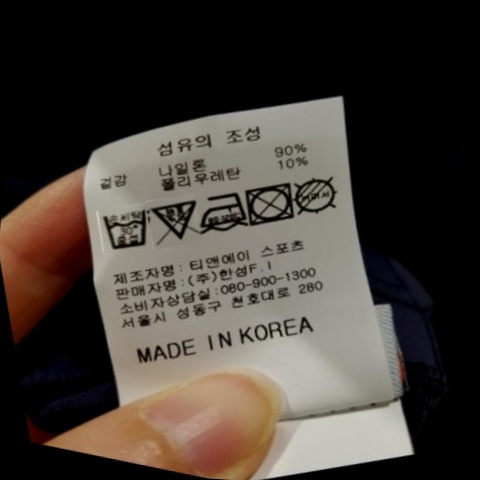DN_tumble_dry: (242, 174, 300, 237)
dry_flat_in_shade: (288, 165, 349, 229)
hand_wash: (97, 198, 156, 258)
iron_low: (198, 180, 255, 241)
non_chlorine_bleach: (149, 193, 202, 255)
